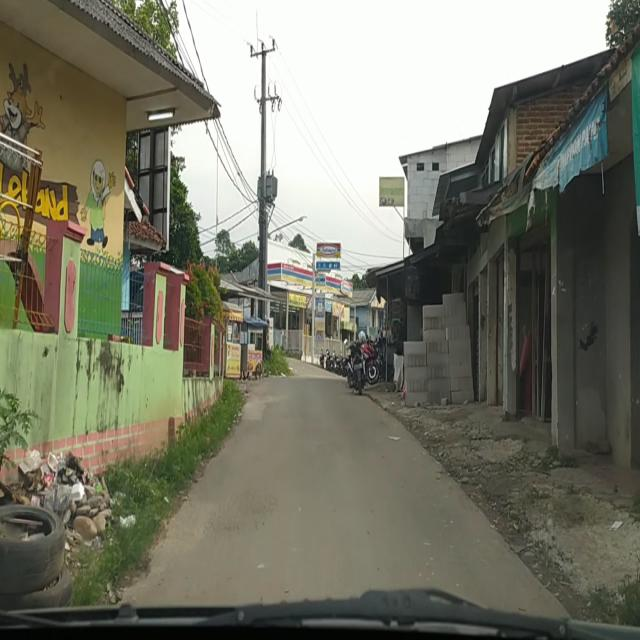Drain Hole: (201, 487, 291, 537)
